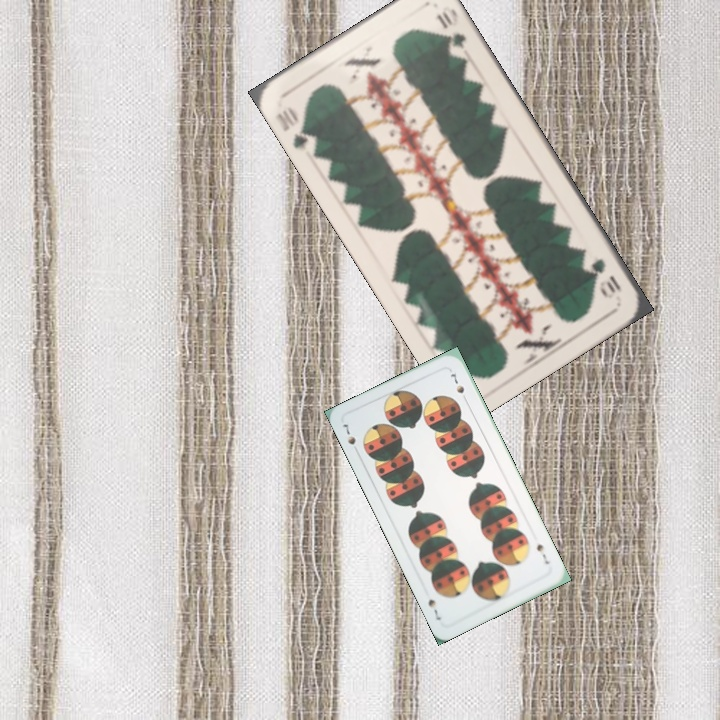G10: (271, 102, 320, 152), (587, 254, 625, 301)
S7: (339, 419, 362, 457), (532, 540, 552, 567)
